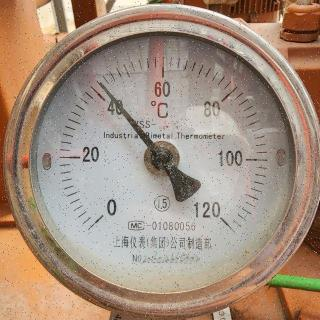gauge: (3, 7, 320, 319), (146, 141, 180, 173), (82, 201, 116, 232), (208, 205, 236, 233), (94, 77, 107, 91)
